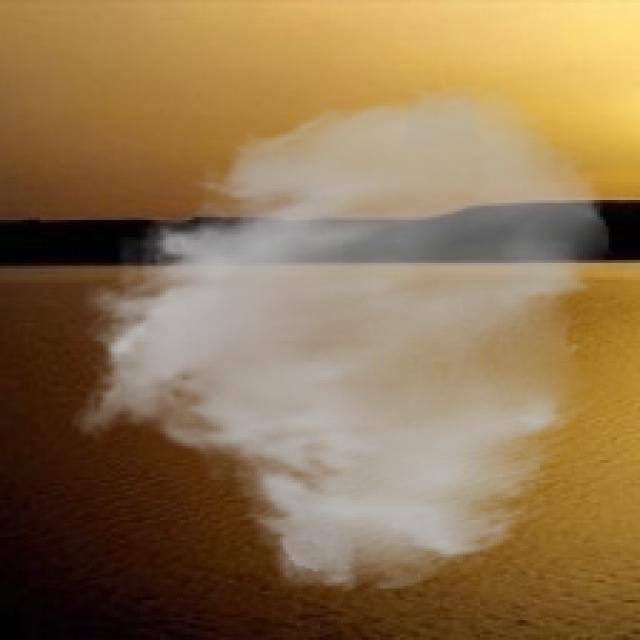smoke: (69, 80, 614, 597)
